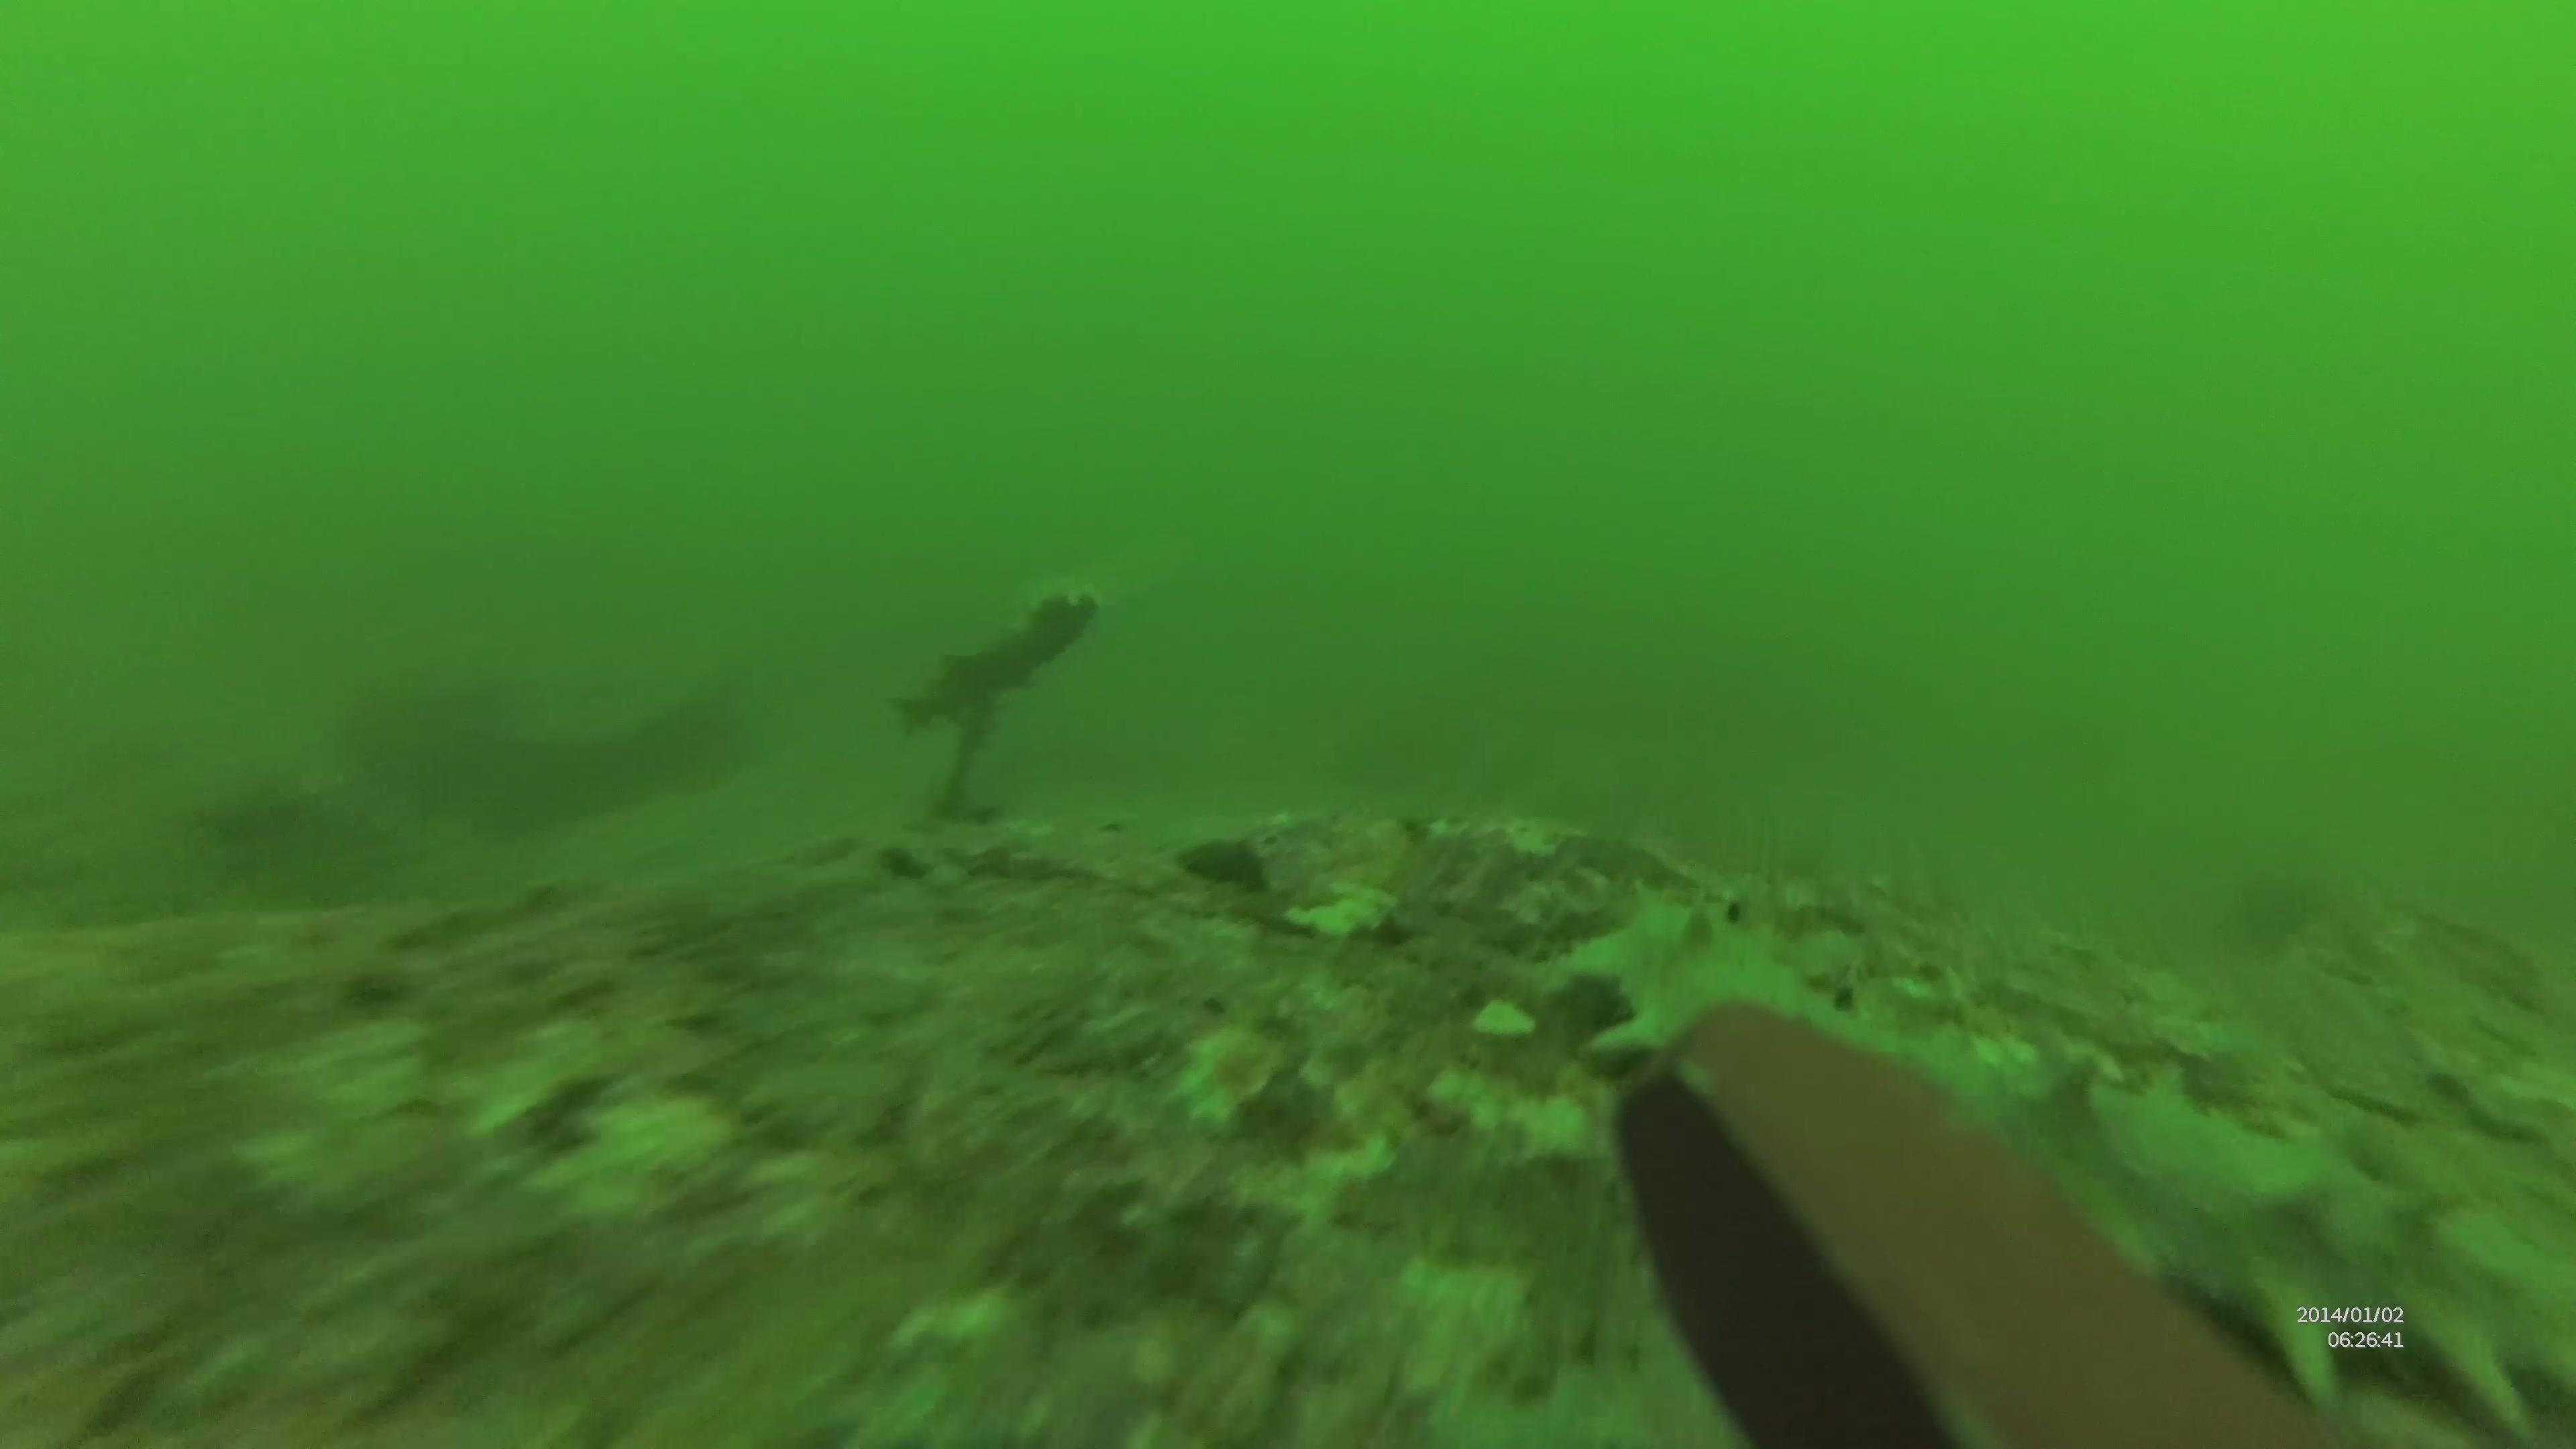holothurian: (1559, 881, 2576, 1449)
